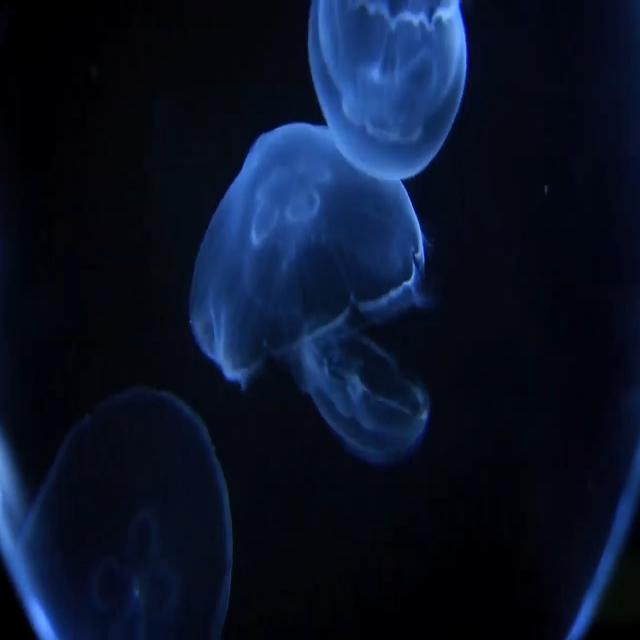Moon-jellyfish: (189, 124, 428, 464), (0, 388, 232, 639), (308, 0, 467, 181)
